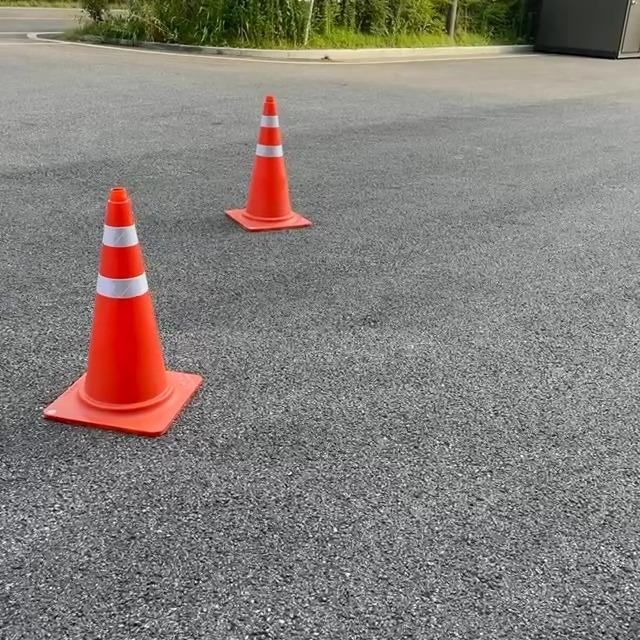fallen_object: (19, 182, 233, 441), (197, 96, 363, 272)
